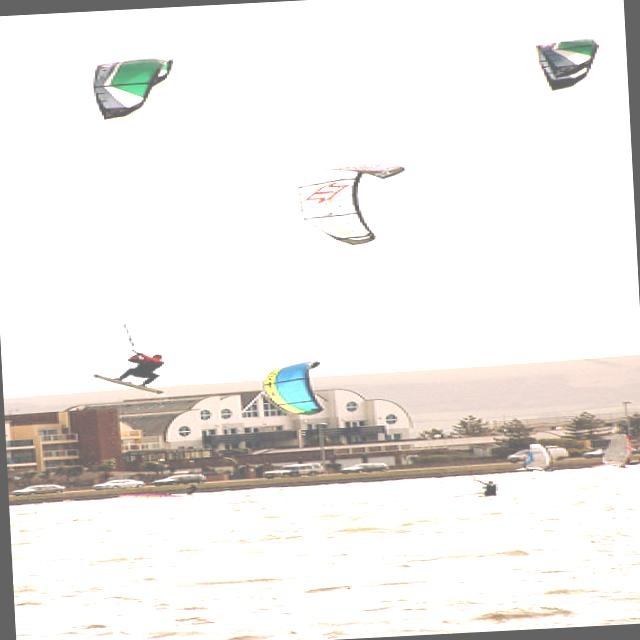Vehicle: (262, 462, 326, 480), (506, 448, 570, 464), (152, 473, 208, 487), (92, 478, 146, 492), (9, 484, 65, 496), (340, 462, 390, 475), (580, 450, 608, 460)
